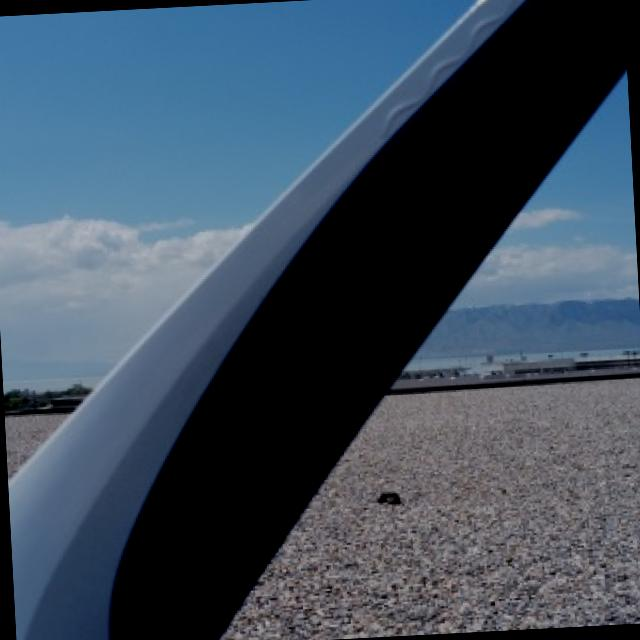healthy: (8, 0, 625, 640)
